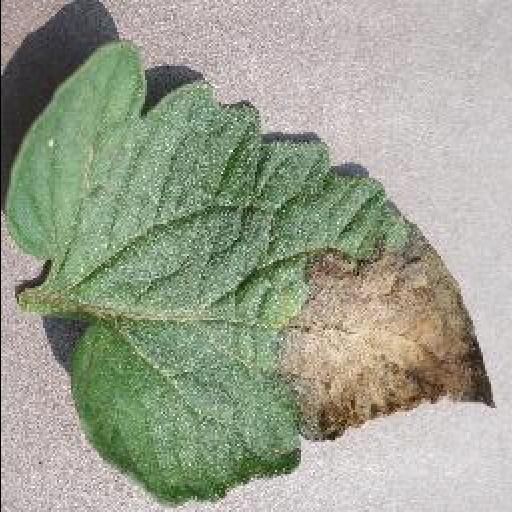disease_tomato: (0, 33, 500, 507)
